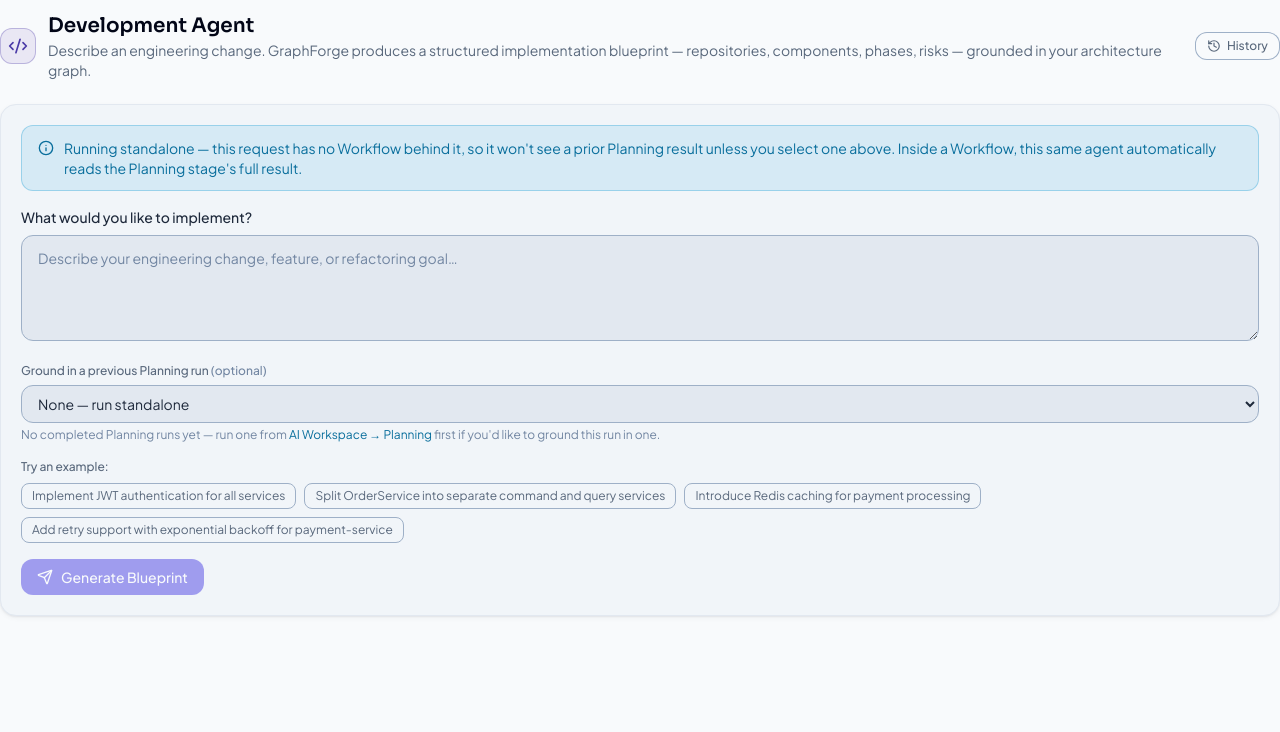
Scenario: DevelopmentPage › enables submit button when input has text
The image size is (1280, 732).
Type "Add retry support" into the text box labelled "What would you like to implement?".
click(640, 288); type("Add retry support")  # box [21,235,1259,341]
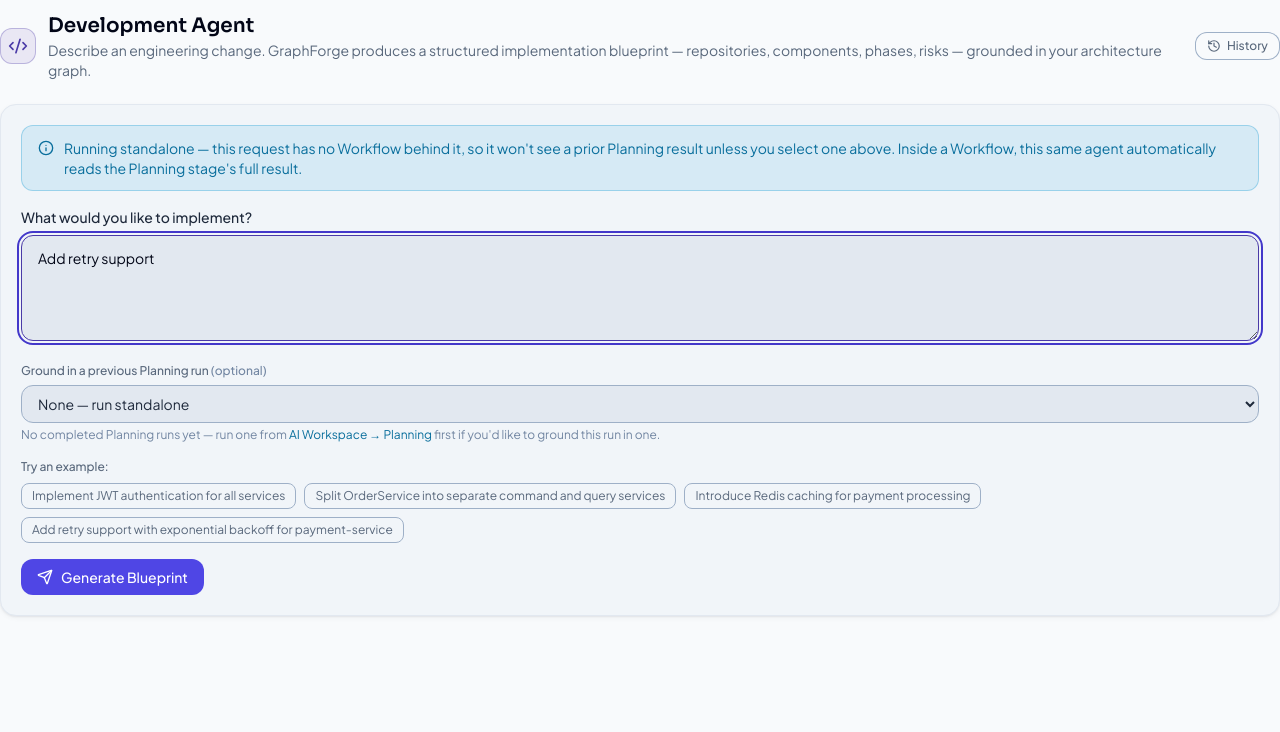
Now the button with aria-label "Submit development request" is enabled, box [21,559,204,595]
